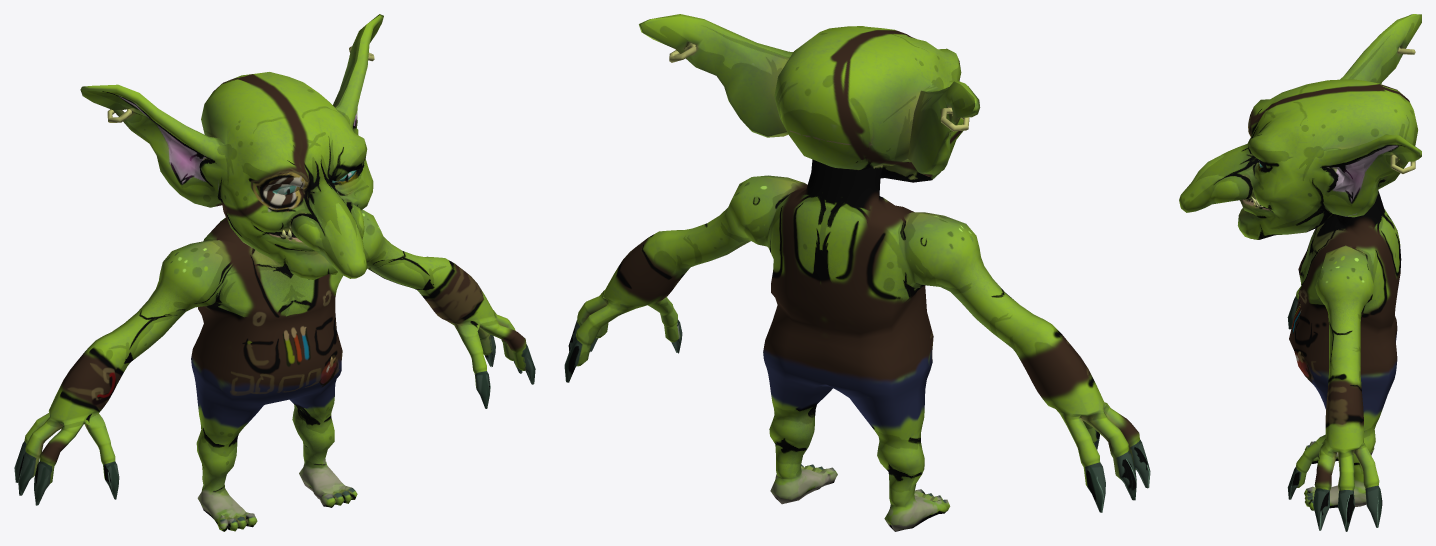
Rendered from Pip.fbx.
3 renders of one model, left to right at view 1: azimuth 30°, elevation 25°; view 2: azimuth 150°, elevation 25°; view 3: azimuth 270°, elevation 25°, orthographic. The views are drawn at different scales.
Visible parts, largest first — view 1: Goblin3; view 2: Goblin3; view 3: Goblin3.
Boxes of the visible parts, x1,y1,x2,y2 form: Goblin3: (14,14,535,531); Goblin3: (564,14,1150,531); Goblin3: (1179,14,1421,531).
Bounding box in the file's own units: 134 × 109 × 59.5.
Materials: 1 (1 with a texture image).
